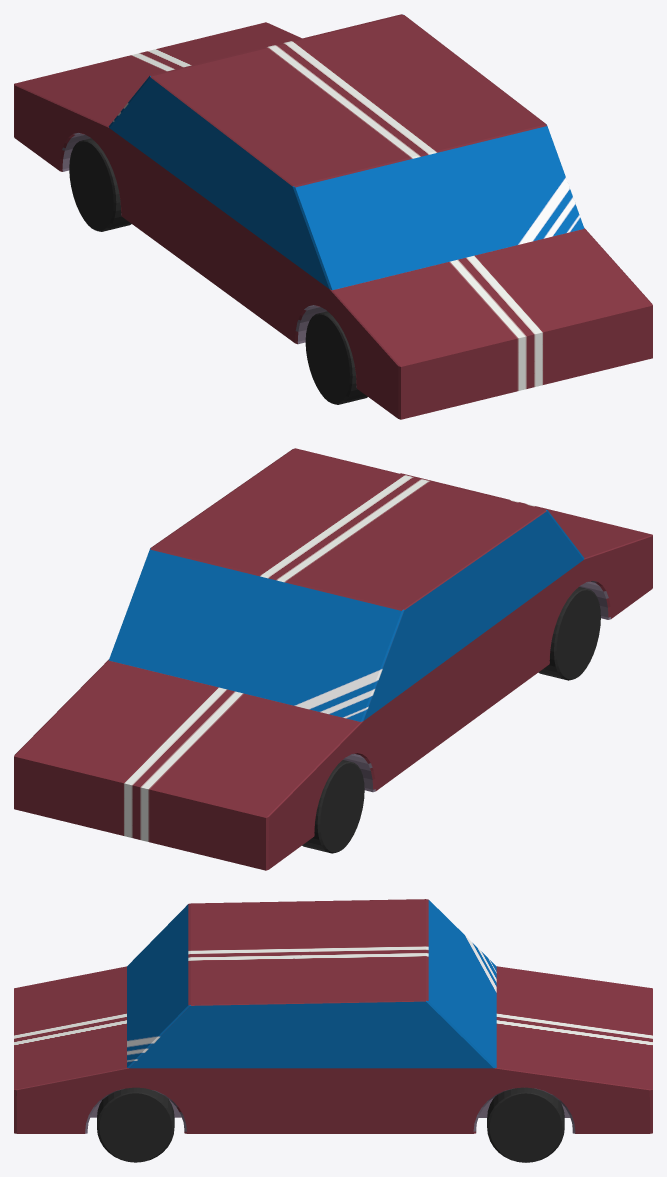
Rendered from Car.obj.
3 views of the same model, one above another, from view 1: azimuth 30°, elevation 25°; view 2: azimuth 150°, elevation 25°; view 3: azimuth 270°, elevation 25° (orthographic). The views are drawn at different scales.
Parts seen in each view (by area): view 1: Car_Cube.002; view 2: Car_Cube.002; view 3: Car_Cube.002.
Part boxes in pixels (x1,y1,x2,y2): Car_Cube.002: (14,14,652,419); Car_Cube.002: (14,448,652,870); Car_Cube.002: (14,899,652,1162).
Bounding box in the file's own units: 0.48 × 0.3548 × 1.26.
